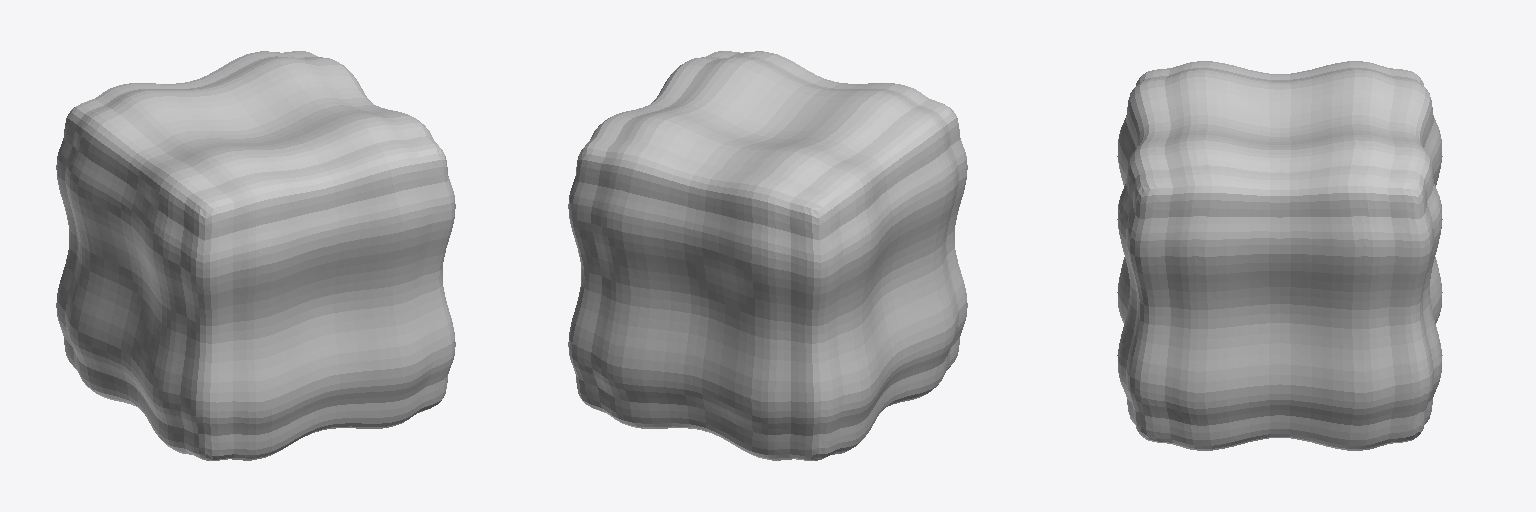
The model's file is Super3.obj.
3 views of the same model, side by side, from view 1: azimuth 30°, elevation 25°; view 2: azimuth 150°, elevation 25°; view 3: azimuth 270°, elevation 25° (orthographic).
Size of the model in its own units: 2.39 by 2.39 by 2.39.